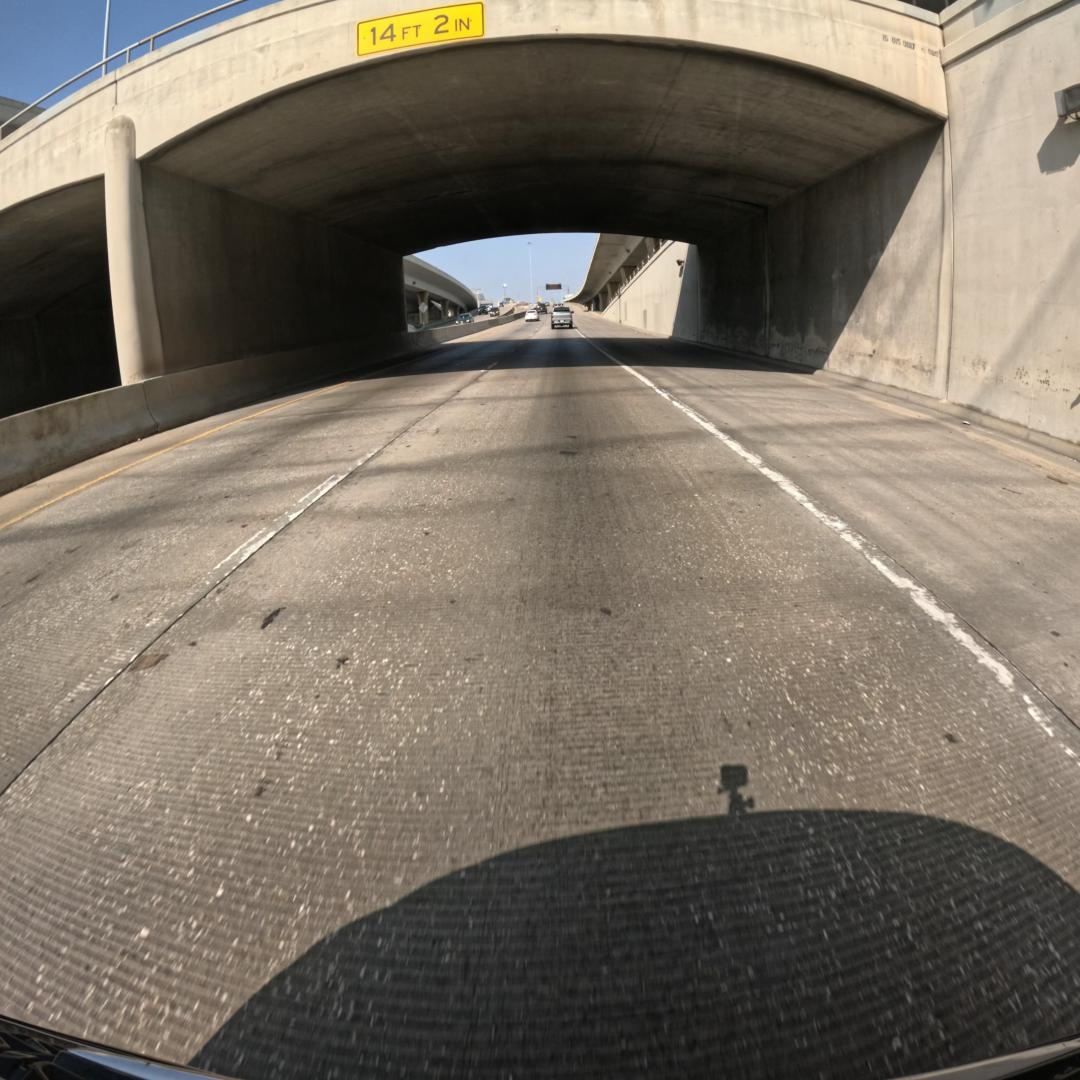lane0: (0, 335, 1080, 1080)
lane1: (0, 340, 526, 793)
